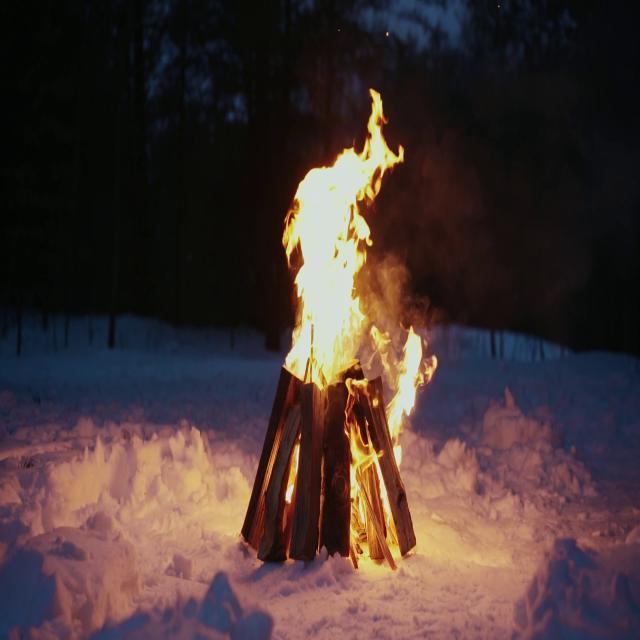Fire: (276, 74, 432, 534)
